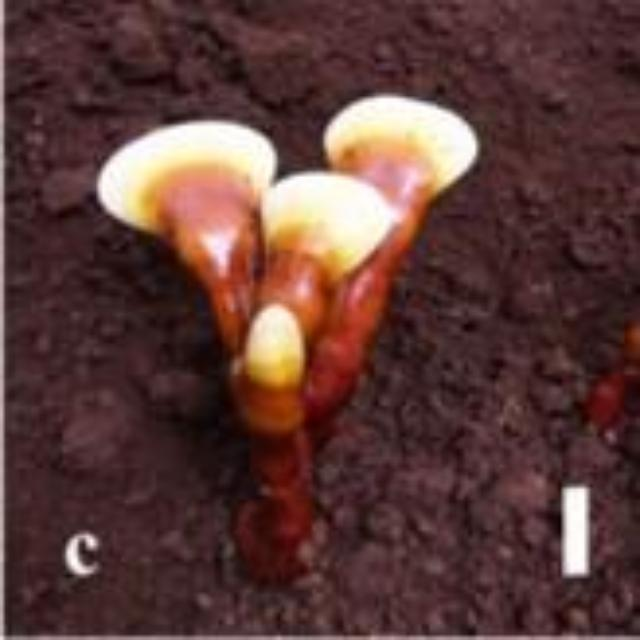ganoderma: (93, 116, 284, 248), (322, 91, 485, 215), (261, 171, 401, 288)
primordium: (241, 302, 311, 391)
